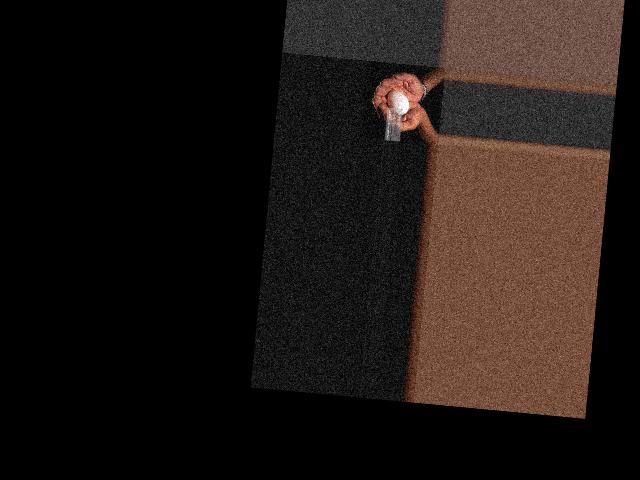egg: (385, 89, 409, 114)
